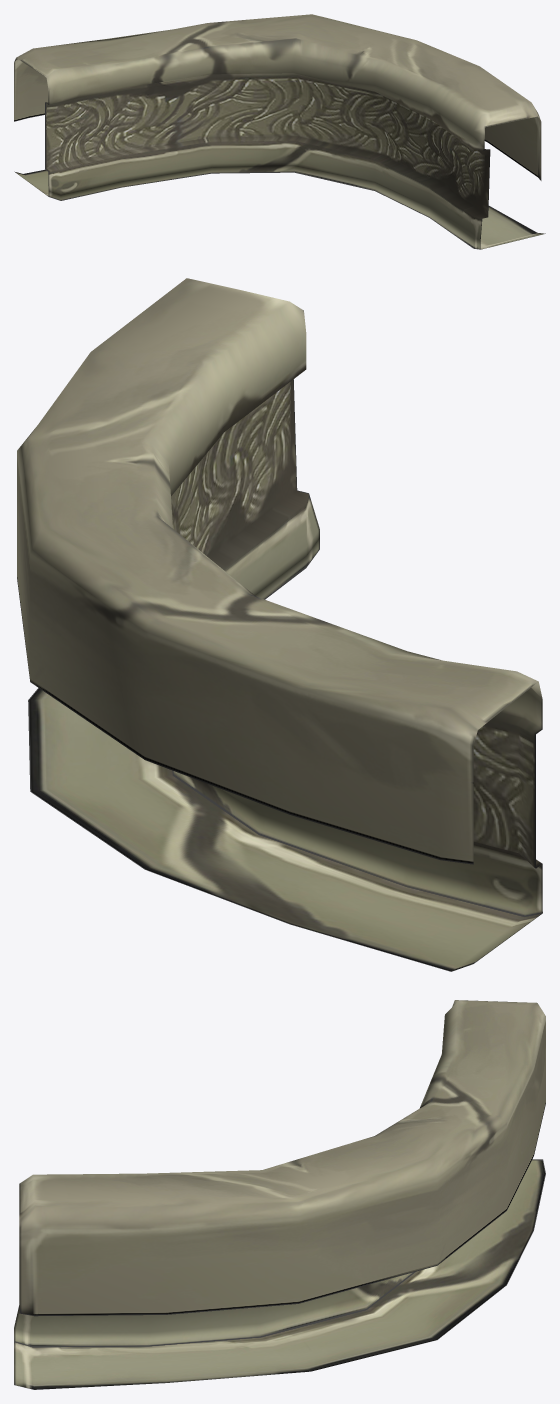
Rendered from walltop_concave.fbx.
3 renders of one model, top to bottom at view 1: azimuth 30°, elevation 25°; view 2: azimuth 150°, elevation 25°; view 3: azimuth 270°, elevation 25°, orthographic. The views are drawn at different scales.
Visible parts, largest first — view 1: polySurface109; view 2: polySurface109; view 3: polySurface109.
Boxes of the visible parts, x1=… form: polySurface109: x1=14, y1=14, x2=545, y2=249; polySurface109: x1=17, y1=278, x2=542, y2=971; polySurface109: x1=14, y1=1000, x2=545, y2=1389.
Bounding box in the file's own units: 2 × 0.7446 × 2.01.
